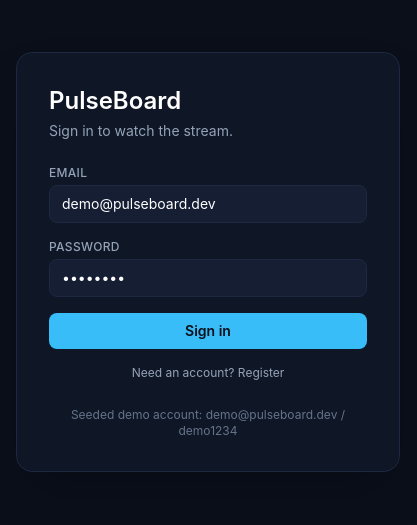
LoginPage › explains a network failure rather than showing a raw error
What coordinates should you click on to do the following:
click the button "Sign in"
I would click on:
 (208, 331)
Its box is left=49, top=313, right=367, bottom=349.
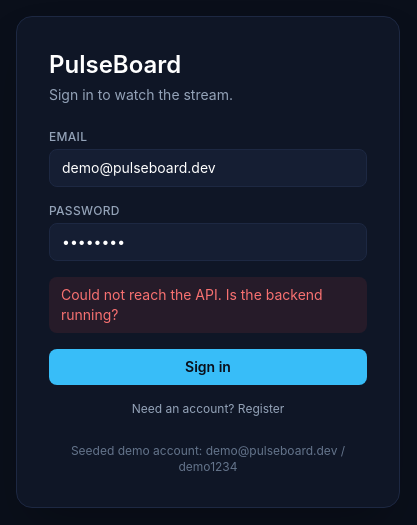
Check: the message shows "Could not reach the API", box left=61, top=286, right=323, bottom=323
